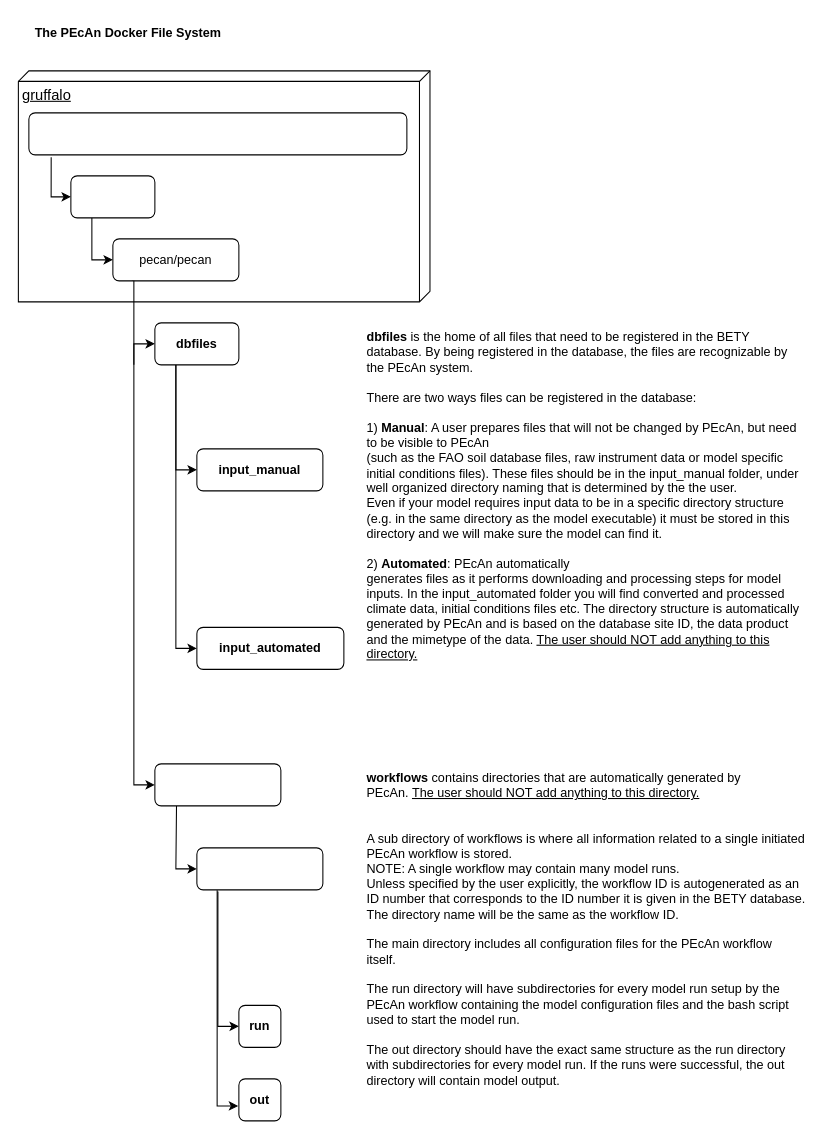
Image size: 824x1139. Some labels were removed from this diagram. The centre of each missing label's shape, as x and y in pixels:
"/mnt/shared/projects/joint/202012_RETINA/pecan/" goes at [217,133].
"[workflow_ID]" goes at [259,868].
"volumes" goes at [112,196].
"workflows" goes at [217,784].
